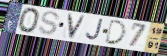7: (128, 22, 149, 49)
D: (103, 19, 128, 46)
J: (84, 18, 104, 42)
O: (17, 7, 42, 34)
S: (37, 10, 61, 36)
V: (66, 12, 88, 41)
